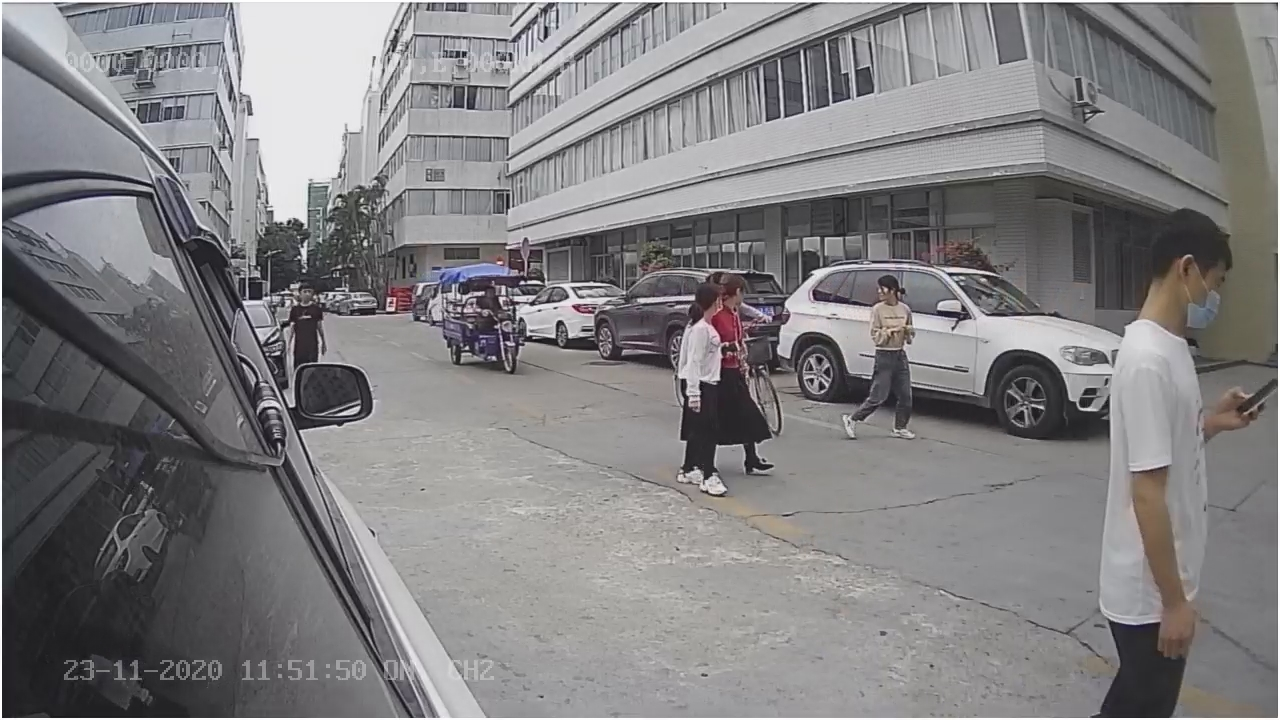person: (665, 282, 739, 499), (840, 270, 923, 442)
